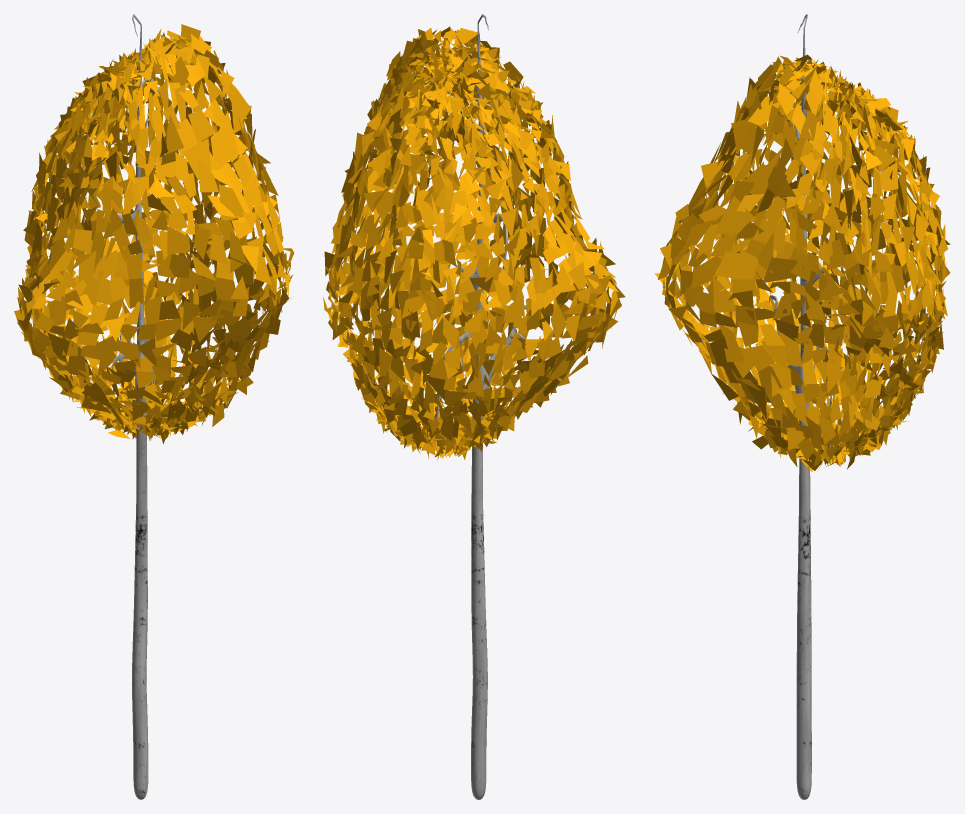
The model's file is Leaves33.001.fbx.
3 renders of one model, left to right at view 1: azimuth 30°, elevation 25°; view 2: azimuth 150°, elevation 25°; view 3: azimuth 270°, elevation 25°, orthographic.
Parts seen in each view (by area): view 1: Leaves33.001; view 2: Leaves33.001; view 3: Leaves33.001.
Boxes of the visible parts, x1,y1,x2,y2 form: Leaves33.001: (14, 14, 294, 799); Leaves33.001: (323, 14, 625, 799); Leaves33.001: (654, 14, 950, 799).
Bounding box in the file's own units: 859 × 2612 × 896.
2 materials, 1 textured.
